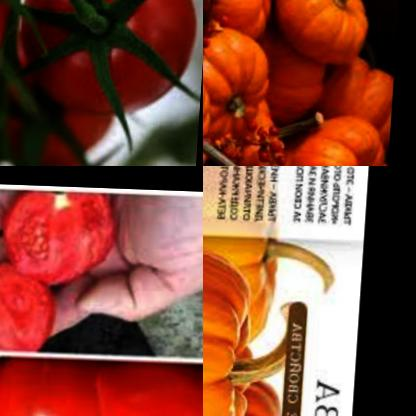pumpkin: (203, 238, 272, 416), (306, 49, 400, 155), (203, 227, 285, 344), (203, 22, 286, 133), (258, 31, 340, 126), (267, 0, 384, 65), (302, 107, 396, 166), (203, 371, 299, 416), (203, 0, 291, 39)
tomato: (17, 0, 203, 104), (0, 186, 123, 294), (0, 69, 119, 166), (0, 346, 117, 416), (0, 255, 68, 359), (87, 360, 203, 416)
